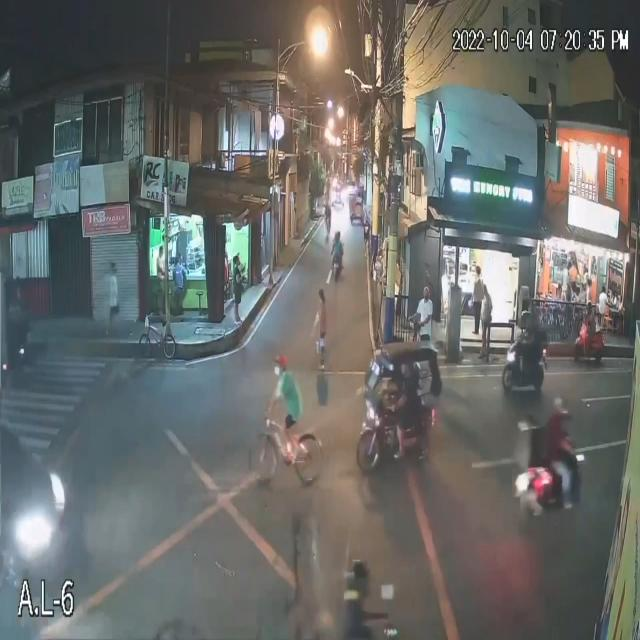Full-Faced: (342, 556, 372, 600), (520, 308, 534, 332), (553, 396, 565, 422), (334, 230, 342, 242)
Invalid: (269, 353, 287, 382)
